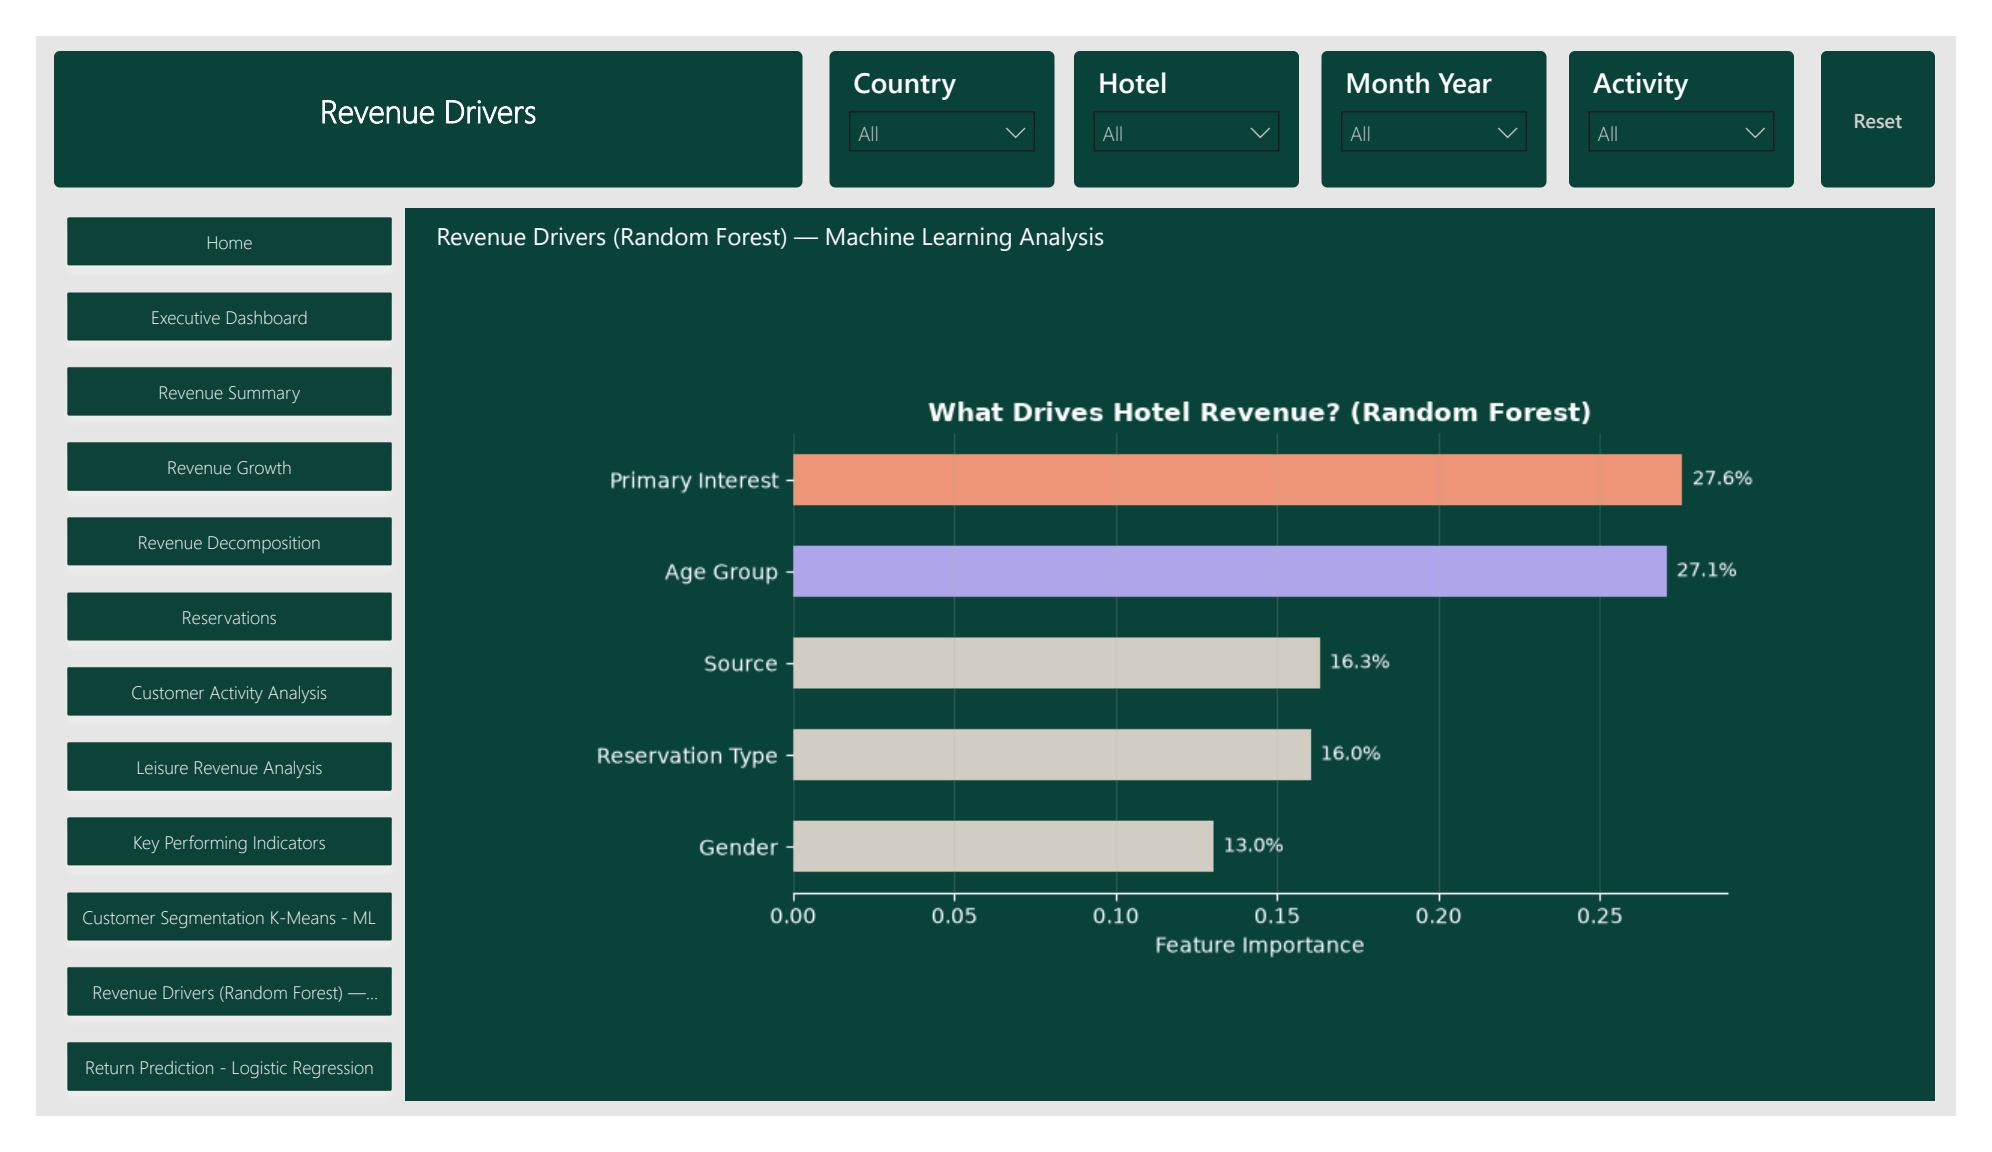

Layout of this report page (visuals, bound fields, positions):
{"tool":"powerbi","page":{"name":"Revenue Drivers (Random Forest) — ML","canvas":[1280,720],"ordinal":10},"visuals":[{"type":"shape","box":[246,114.9,1019.9,595.2],"z":0},{"type":"textbox","box":[11.7,9.9,499.2,90.7],"z":1000},{"type":"slicer","fields":{"Values":["Country.Country"]},"box":[528.8,9.9,150,90.7],"z":2000},{"type":"pageNavigator","box":[11.7,112.2,234.3,607.8],"z":3000},{"type":"slicer","fields":{"Values":["Hotel Visited.Hotel"]},"box":[692.2,9.9,150,90.7],"z":4000},{"type":"slicer","fields":{"Values":["Calender.MonthYear"]},"box":[857.4,9.9,150,90.7],"z":5000},{"type":"slicer","fields":{"Values":["Primary interest.Primary Interest"]},"box":[1021.6,9.9,150,90.7],"z":6000},{"type":"actionButton","box":[1189.5,9.9,76.3,90.7],"z":7000},{"type":"pythonVisual","title":"Revenue Drivers (Random Forest) — Machine Learning  Analysis","fields":{"Values":["Data.Revenue","Gender.Gender","Age.Age Group","Primary interest.Primary Interest","Source.Source","Reservation type.Reservation Type"]},"box":[261.6,121.9,993.8,581.2],"z":7001}]}

Visuals, with their boxes in screenshot pixels (x1, y1, x2, y2), scaled from the page's 1280x720 canvas onto the 1992x1152 screenshot:
shape: box=[383, 184, 1970, 1136]
textbox: box=[18, 16, 795, 161]
slicer - Country.Country: box=[823, 16, 1056, 161]
pageNavigator: box=[18, 180, 383, 1151]
slicer - Hotel Visited.Hotel: box=[1077, 16, 1311, 161]
slicer - Calender.MonthYear: box=[1334, 16, 1568, 161]
slicer - Primary interest.Primary Interest: box=[1590, 16, 1823, 161]
actionButton: box=[1851, 16, 1970, 161]
"Revenue Drivers (Random Forest) — Machine Learning  Analysis" pythonVisual: box=[407, 195, 1954, 1125]
